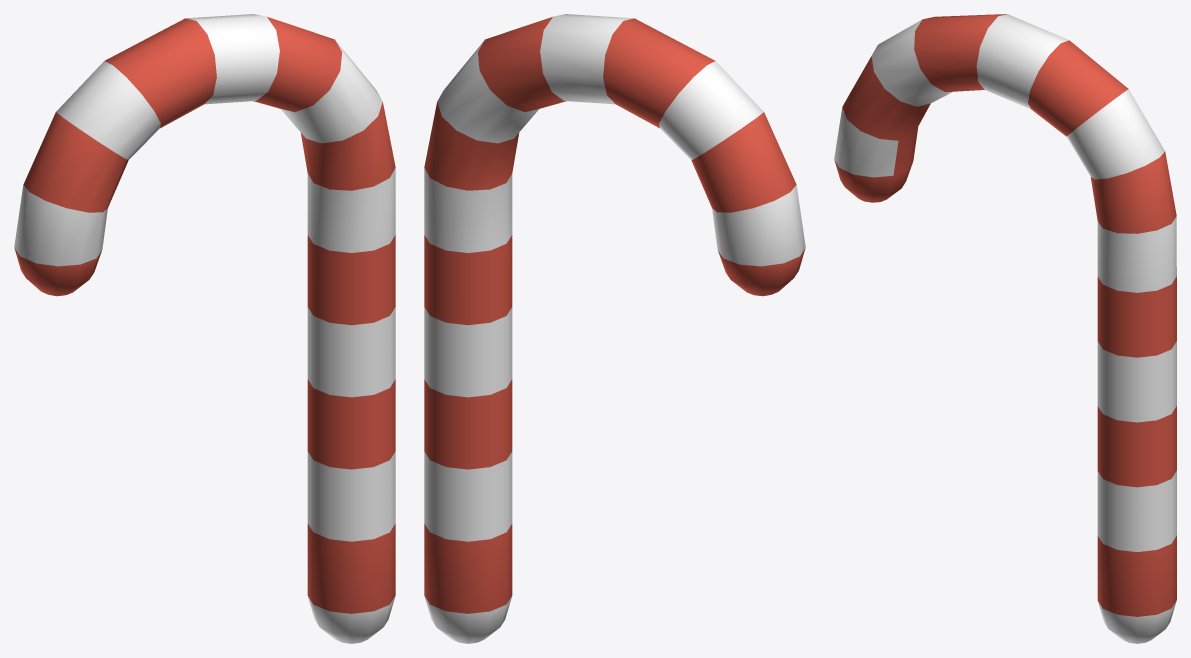
Rendered from Candy_02.fbx.
The picture shows the model from 3 angles, left to right: view 1: azimuth 30°, elevation 25°; view 2: azimuth 150°, elevation 25°; view 3: azimuth 330°, elevation 25°; orthographic projection. The views are drawn at different scales.
Parts seen in each view (by area): view 1: Candy_02; view 2: Candy_02; view 3: Candy_02.
Part boxes in pixels (x1,y1,x2,y2): Candy_02: (14, 14, 395, 643); Candy_02: (424, 14, 805, 643); Candy_02: (834, 14, 1176, 643).
Size of the model in its own units: 1.3 by 2.21 by 0.2682.
